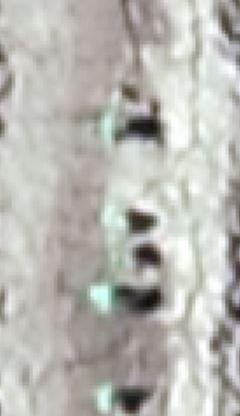cotton: (89, 284, 114, 307), (103, 210, 130, 230), (99, 116, 119, 139), (100, 388, 116, 408)
